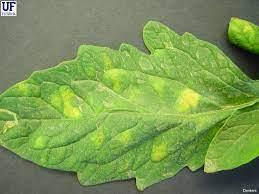leaf_spot: (2, 20, 251, 186)
